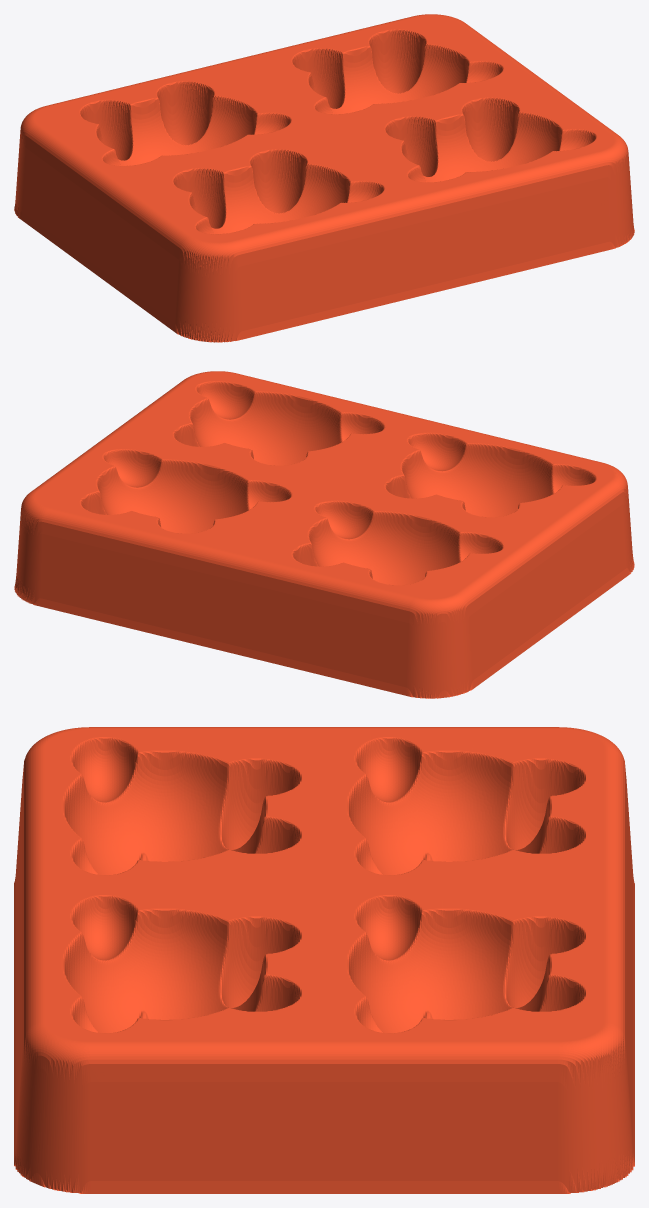
The model's file is mold.glb.
The picture shows the model from 3 angles, top to bottom: view 1: azimuth 30°, elevation 25°; view 2: azimuth 150°, elevation 25°; view 3: azimuth 270°, elevation 25°; orthographic projection. The views are drawn at different scales.
Parts seen in each view (by area): view 1: geometry_0; view 2: geometry_0; view 3: geometry_0.
Part boxes in pixels (bbox=[...]): geometry_0: bbox=[14, 14, 634, 342]; geometry_0: bbox=[14, 371, 634, 698]; geometry_0: bbox=[14, 727, 634, 1193].
Size of the model in its own units: 0.0946 by 0.0182 by 0.0734.
